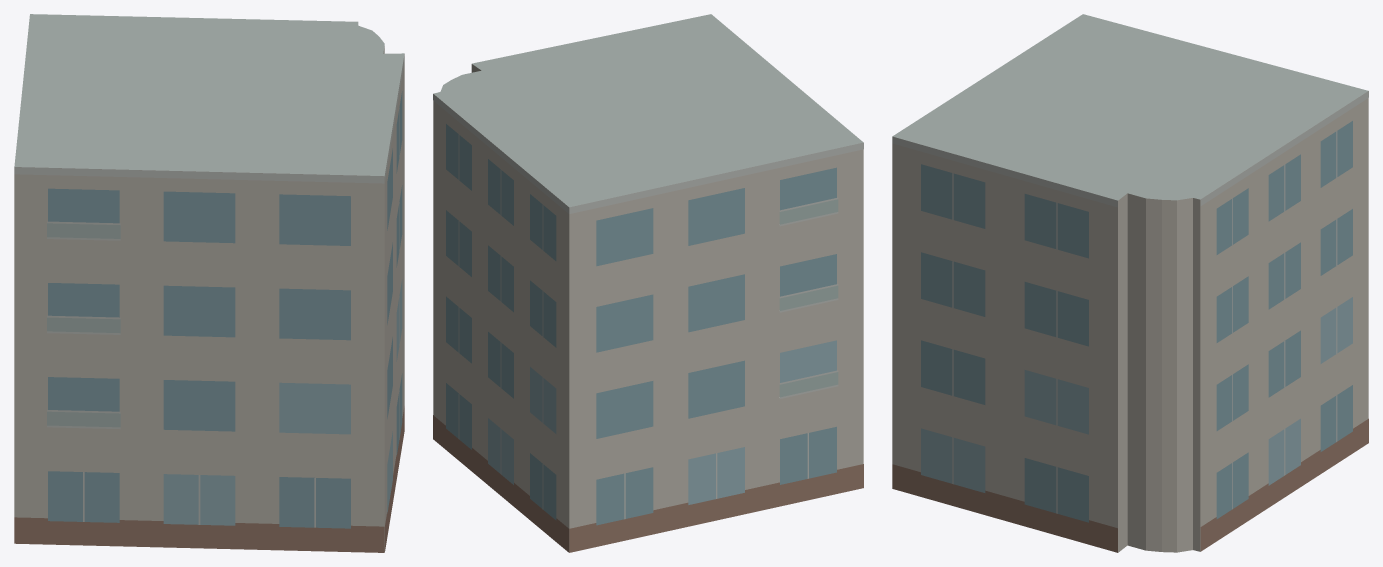
File: survey-upis-32882382.glb
3 renders of one model, left to right at view 1: azimuth 30°, elevation 25°; view 2: azimuth 150°, elevation 25°; view 3: azimuth 270°, elevation 25°, orthographic. The views are drawn at different scales.
Parts seen in each view (by area): view 1: survey-upis-32882382.tmp; view 2: survey-upis-32882382.tmp; view 3: survey-upis-32882382.tmp.
Boxes of the visible parts, bbox=[...] form: survey-upis-32882382.tmp: bbox=[14, 14, 404, 552]; survey-upis-32882382.tmp: bbox=[433, 14, 863, 552]; survey-upis-32882382.tmp: bbox=[892, 14, 1368, 552].
Bounding box in the file's own units: 14.1 × 12.4 × 15.21.
